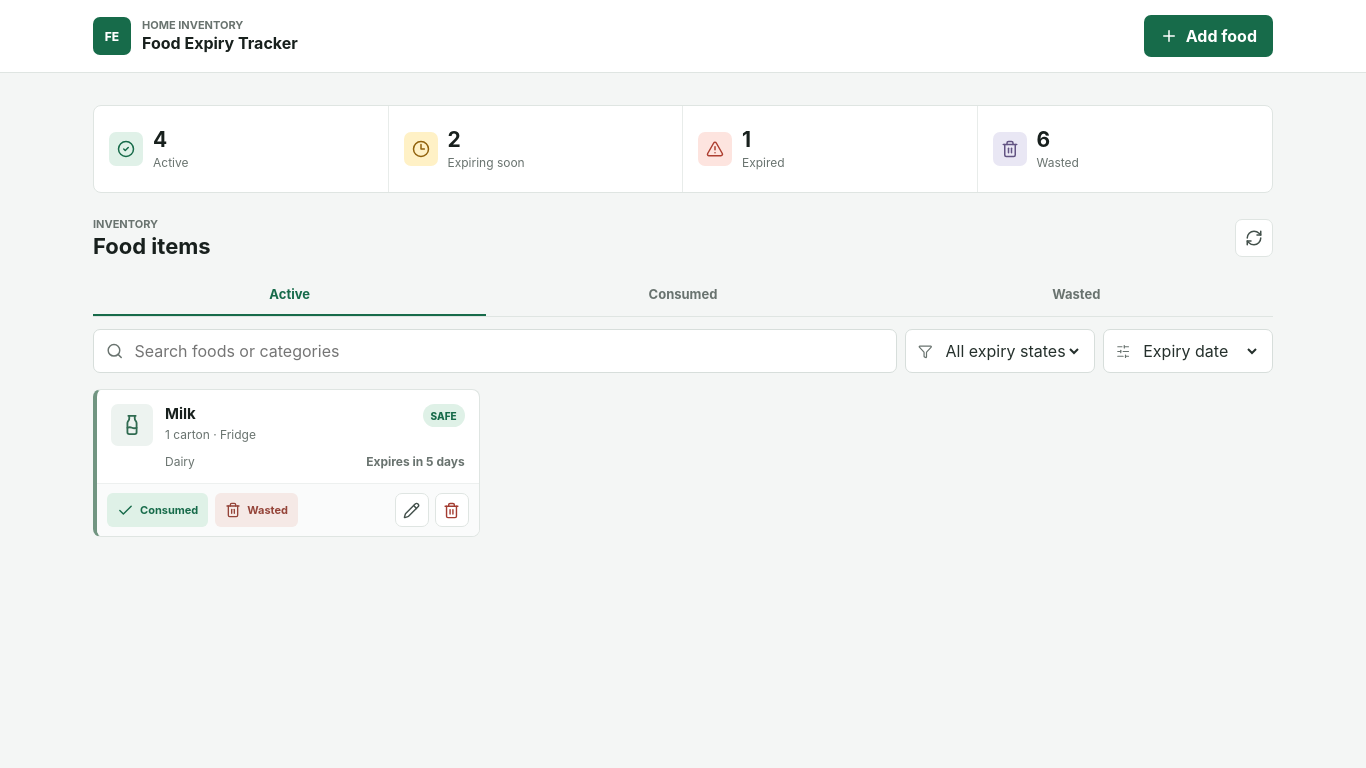
Test: App › adds a food and reloads the inventory
Expected: the heading "Milk" is shown, [165, 404, 196, 423]
Click the button "Add food" at [1208, 36], box [1144, 15, 1273, 57]
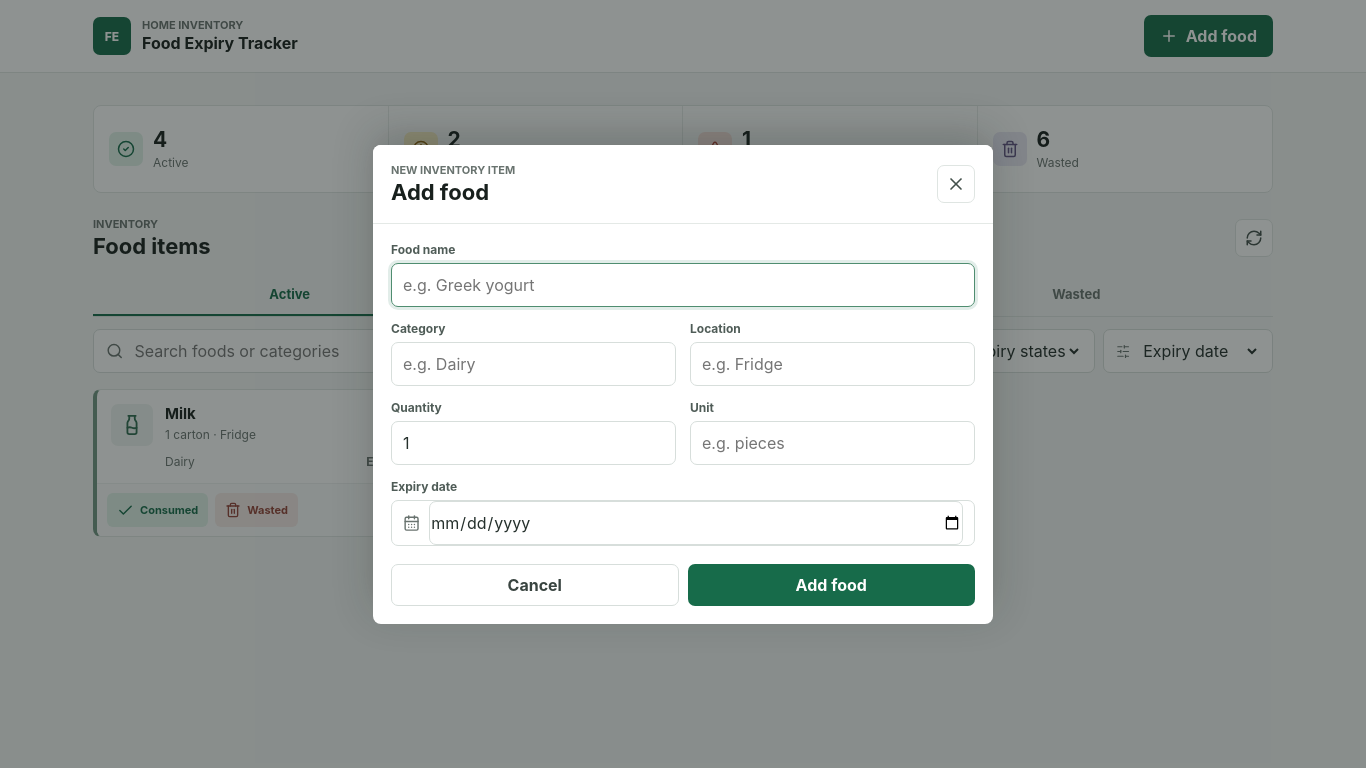
Type "Yogurt" into the field labelled "Food name" at [683, 284], box [391, 262, 975, 306]
Type "Dairy" into the field labelled "Category" at [534, 364], box [391, 342, 676, 386]
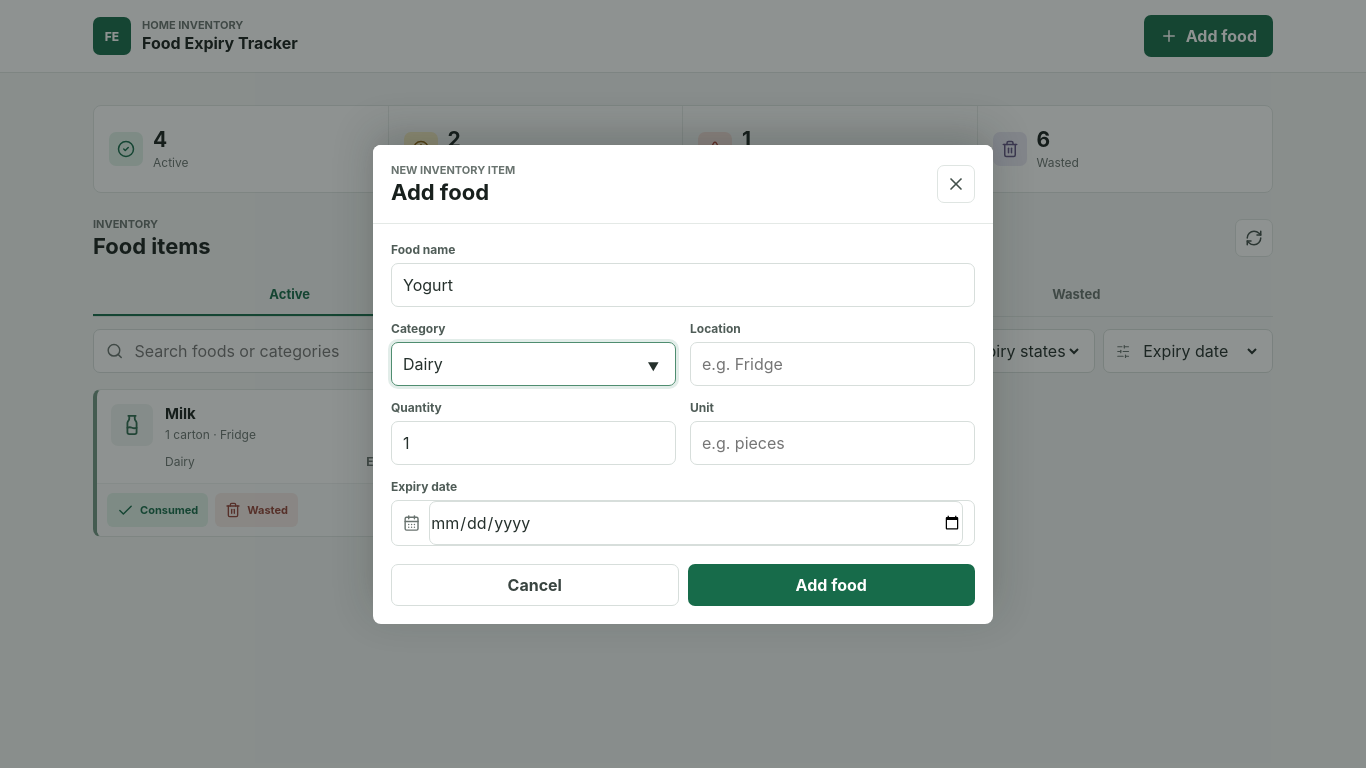
Type "Fridge" into the field labelled "Location" at [832, 364], box [690, 342, 975, 386]
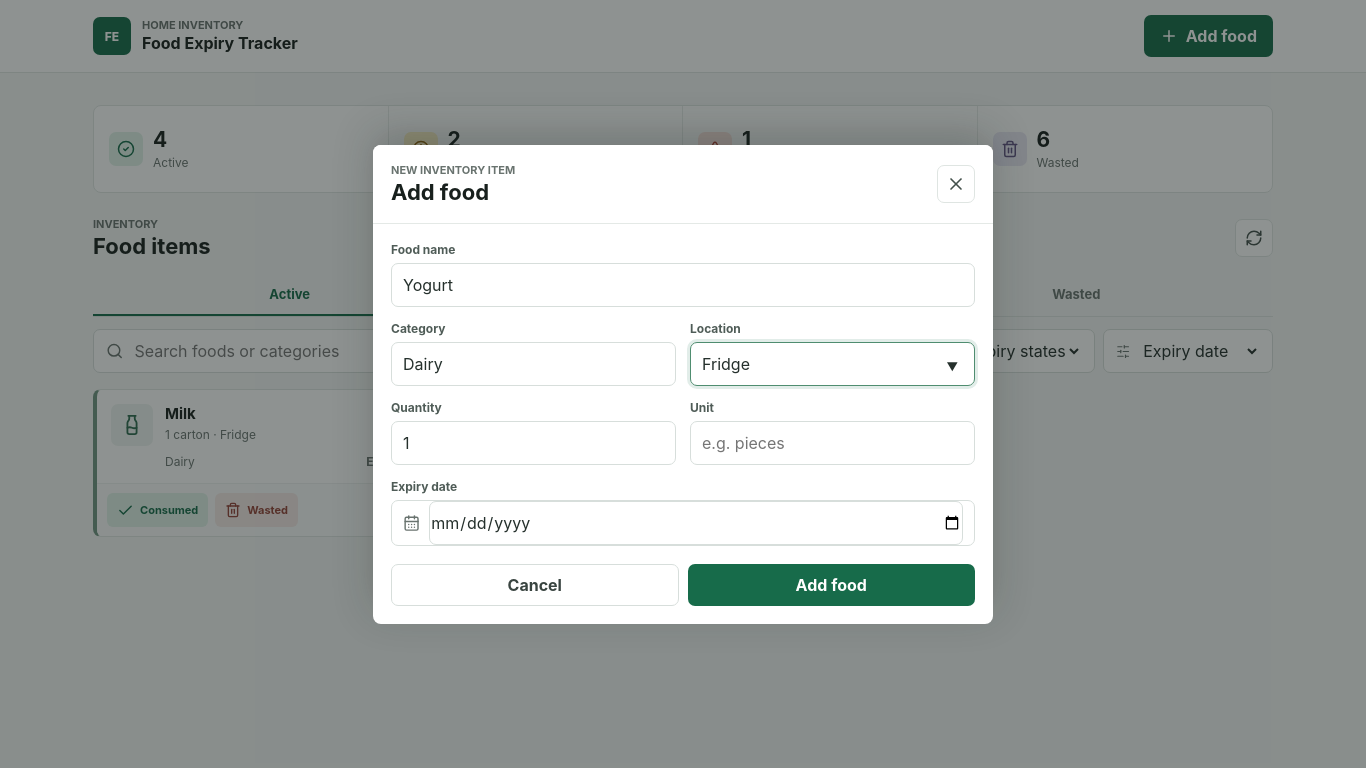
Type "cups" into the field labelled "Unit" at [832, 442], box [690, 420, 975, 464]
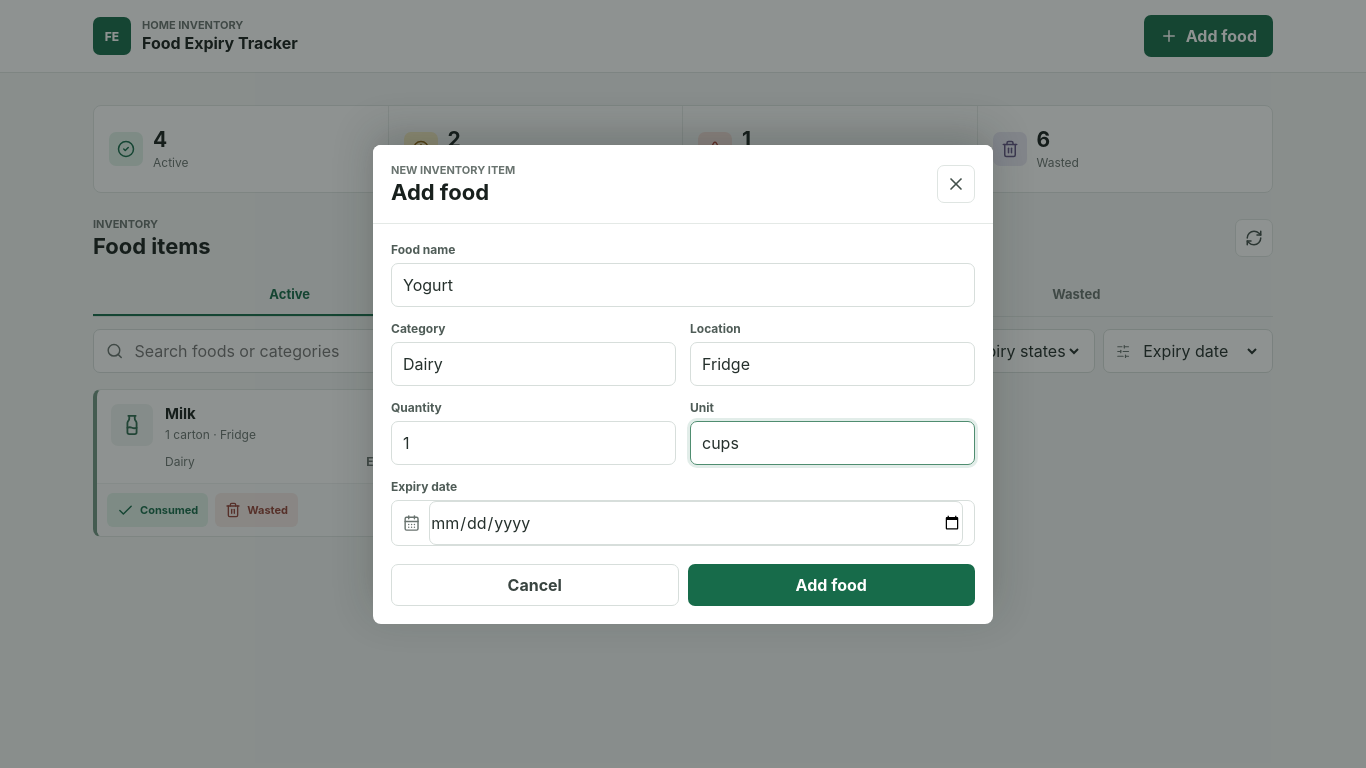
Type "2099-12-31" into the date field labelled "Expiry date" at [696, 522], box [429, 500, 963, 544]
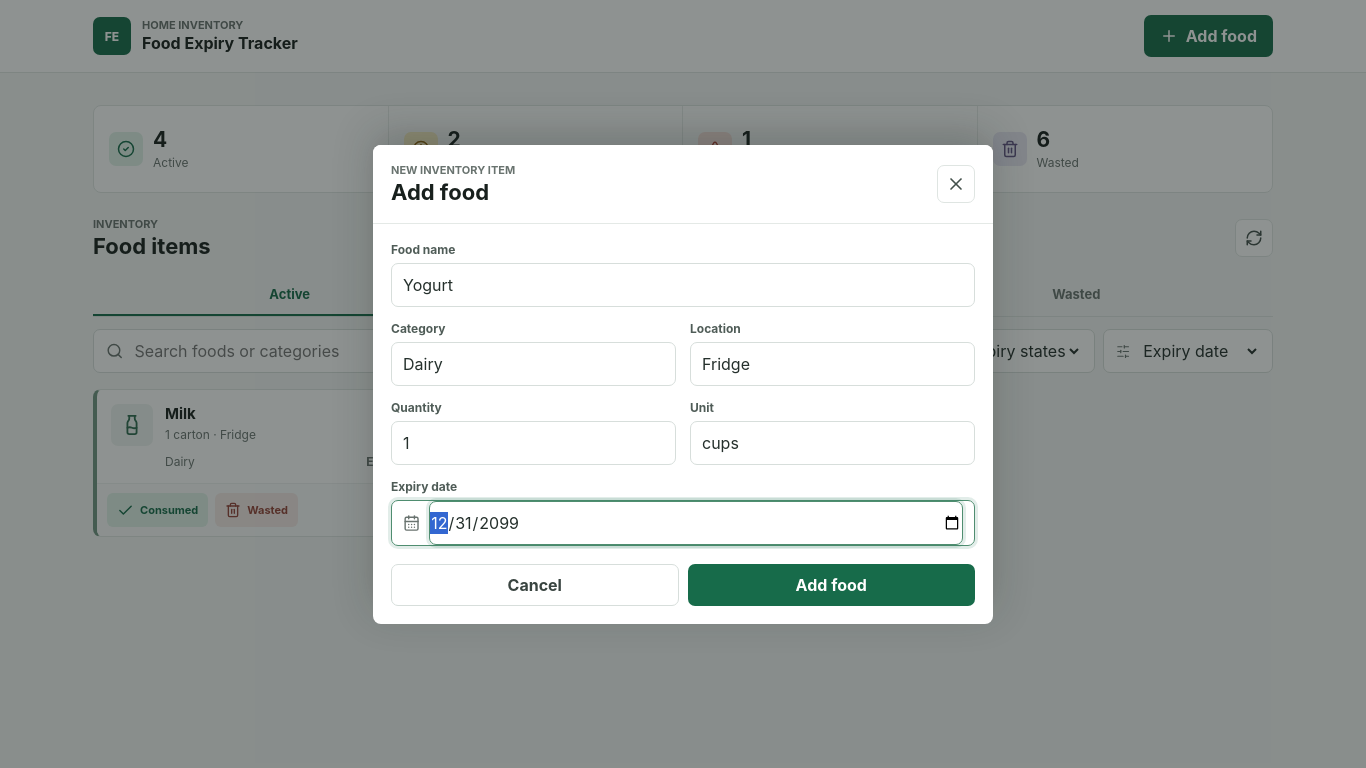
Click the button "Add food" at [831, 584], box [688, 564, 975, 606]
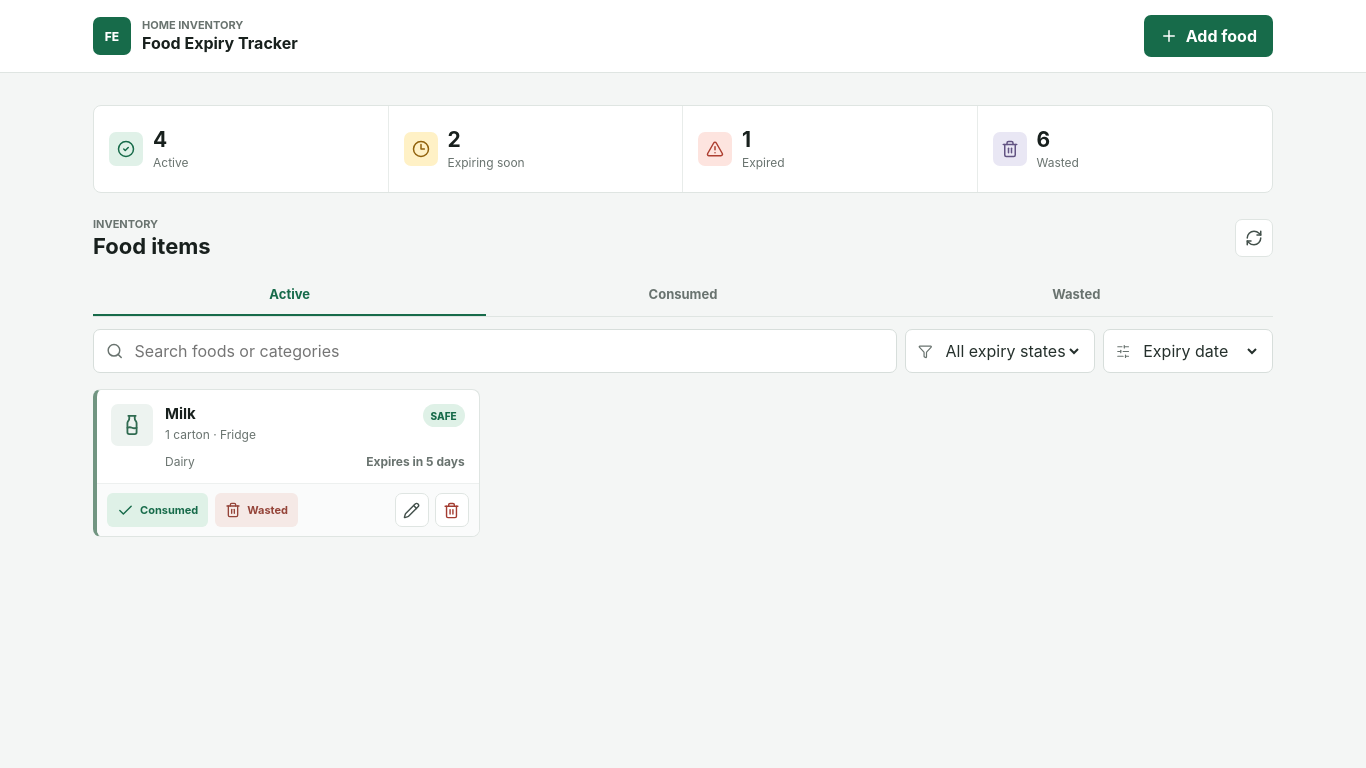
Now the dialog is gone
